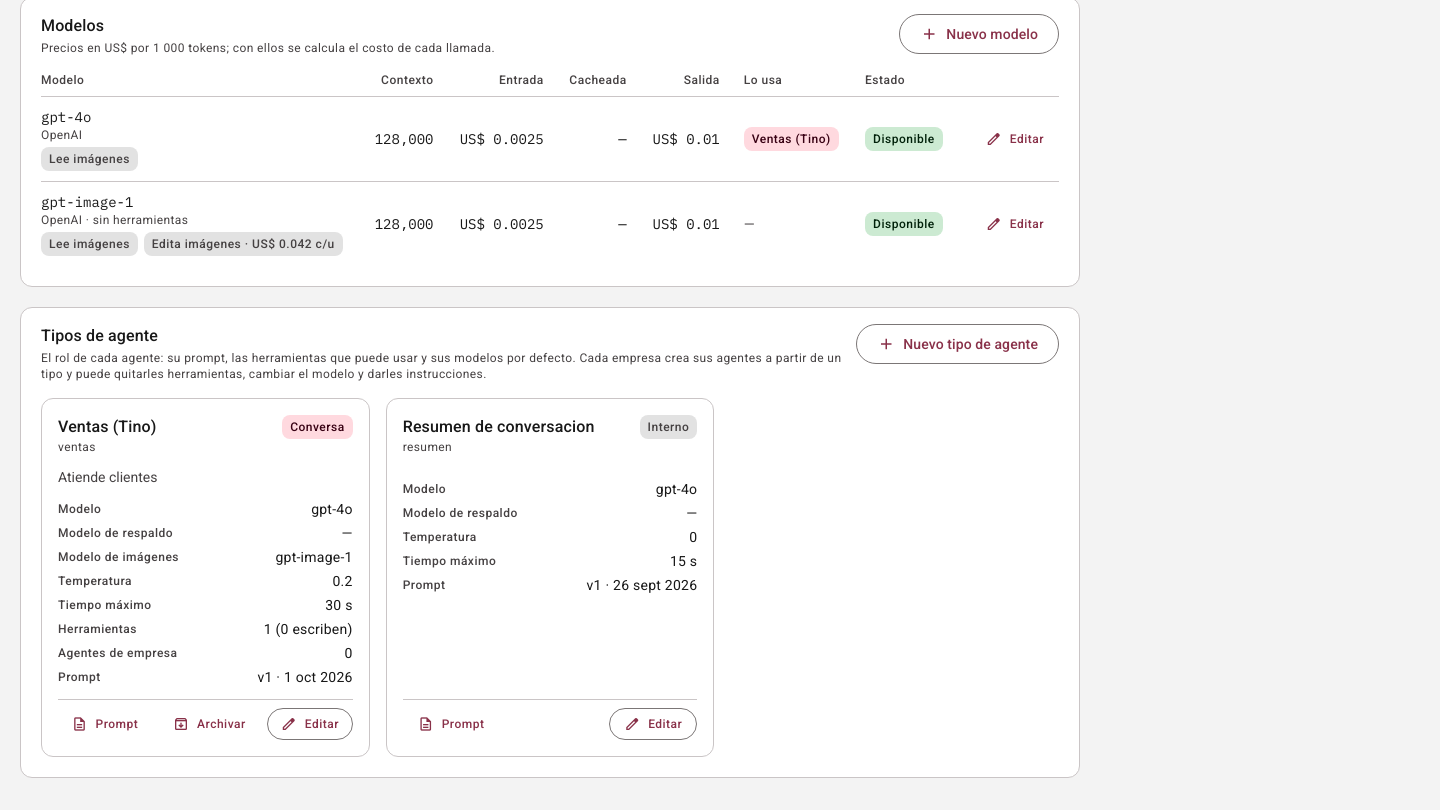
Test: Modelos y agentes › edita un agente que llegó sin lista de herramientas
(page scrolled)
Step 1. Click the button "Editar" below "v1 · 26 sept 2026" → (653, 724), box [609, 708, 697, 740]
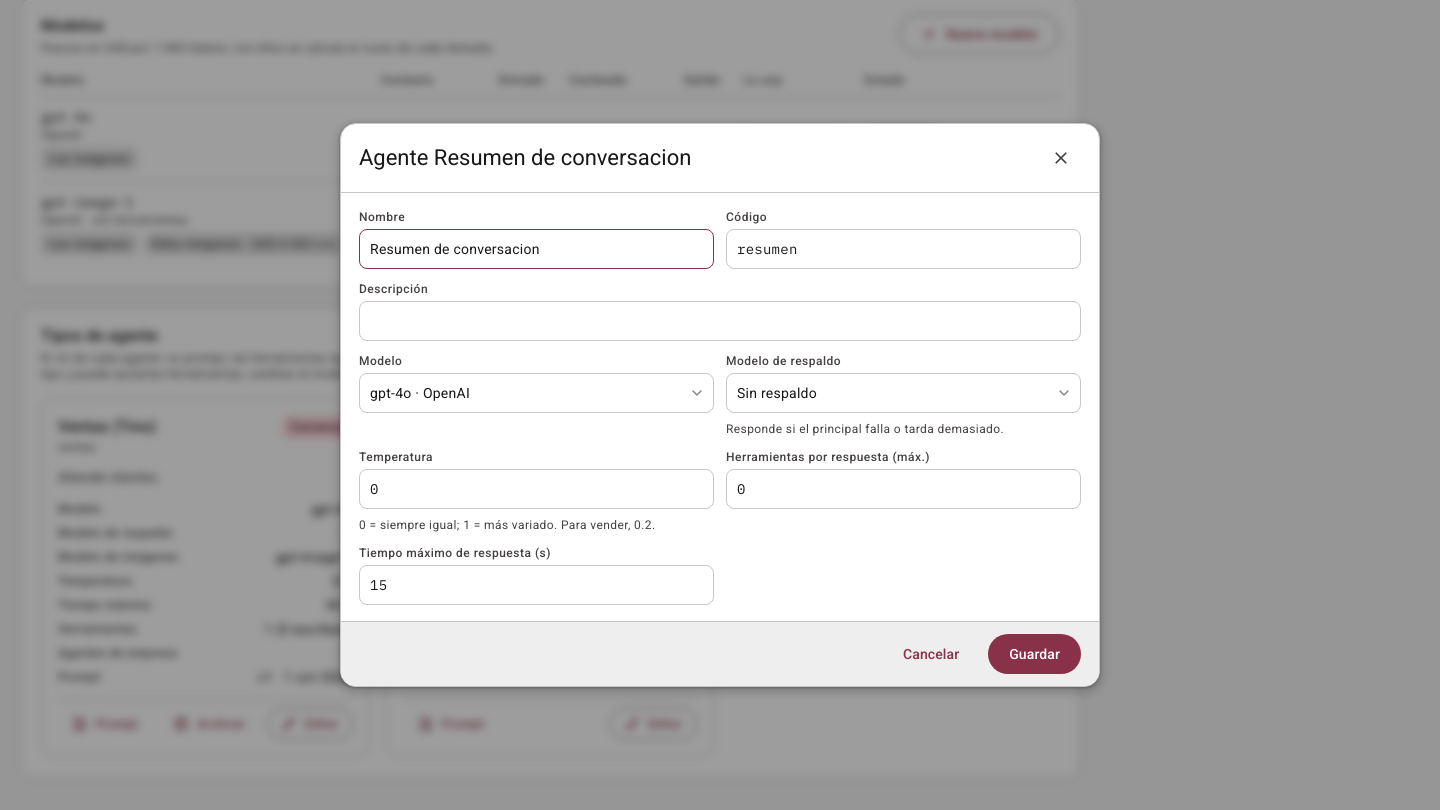
Expected: the dialog is shown, [340, 123, 1100, 687]
